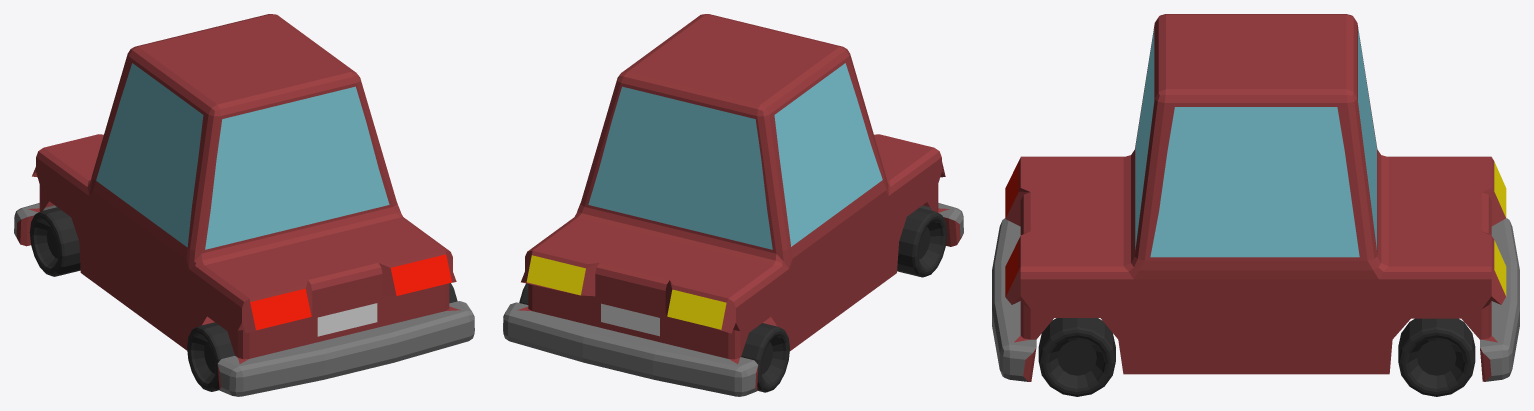
The model's file is TS-car-4.fbx.
3 views of the same model, side by side, from view 1: azimuth 30°, elevation 25°; view 2: azimuth 150°, elevation 25°; view 3: azimuth 270°, elevation 25° (orthographic). The views are drawn at different scales.
Parts seen in each view (by area): view 1: Cube.005; view 2: Cube.005; view 3: Cube.005.
Boxes of the visible parts, left/top/right/bottom form: Cube.005: left=14, top=14, right=474, bottom=396; Cube.005: left=503, top=14, right=963, bottom=396; Cube.005: left=992, top=14, right=1519, bottom=396.
Size of the model in its own units: 422 by 393 by 673.
